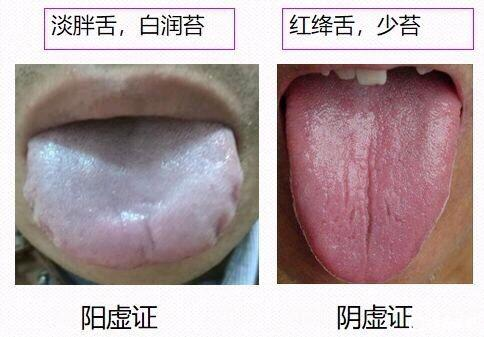baitaishe: (23, 117, 243, 269)
chihenshe: (24, 185, 66, 254), (205, 178, 243, 251)
hongshe: (285, 73, 462, 283)
liewenshe: (344, 159, 403, 261), (142, 218, 159, 251)
